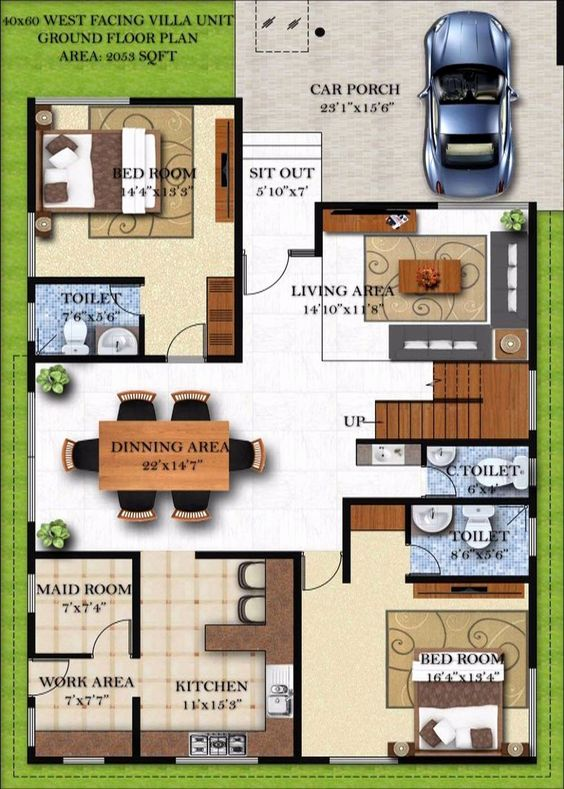wall: (234, 101, 241, 359), (293, 554, 301, 763), (342, 497, 536, 504), (529, 201, 536, 369), (355, 438, 535, 444), (28, 550, 138, 559), (25, 355, 163, 362), (194, 551, 300, 560), (26, 97, 34, 211), (399, 756, 536, 762), (529, 556, 536, 667), (342, 497, 351, 583), (404, 575, 531, 581), (133, 554, 140, 660), (314, 201, 437, 207), (27, 277, 143, 283), (130, 98, 241, 104), (259, 755, 328, 764), (103, 756, 176, 764), (132, 699, 140, 761), (314, 201, 323, 256), (27, 341, 36, 393), (557, 1, 563, 64), (27, 523, 34, 573), (27, 613, 34, 660), (138, 316, 145, 360), (28, 757, 62, 766), (529, 486, 537, 518), (405, 498, 410, 543), (529, 431, 537, 458), (27, 277, 34, 301), (27, 747, 35, 765), (422, 439, 427, 466)
